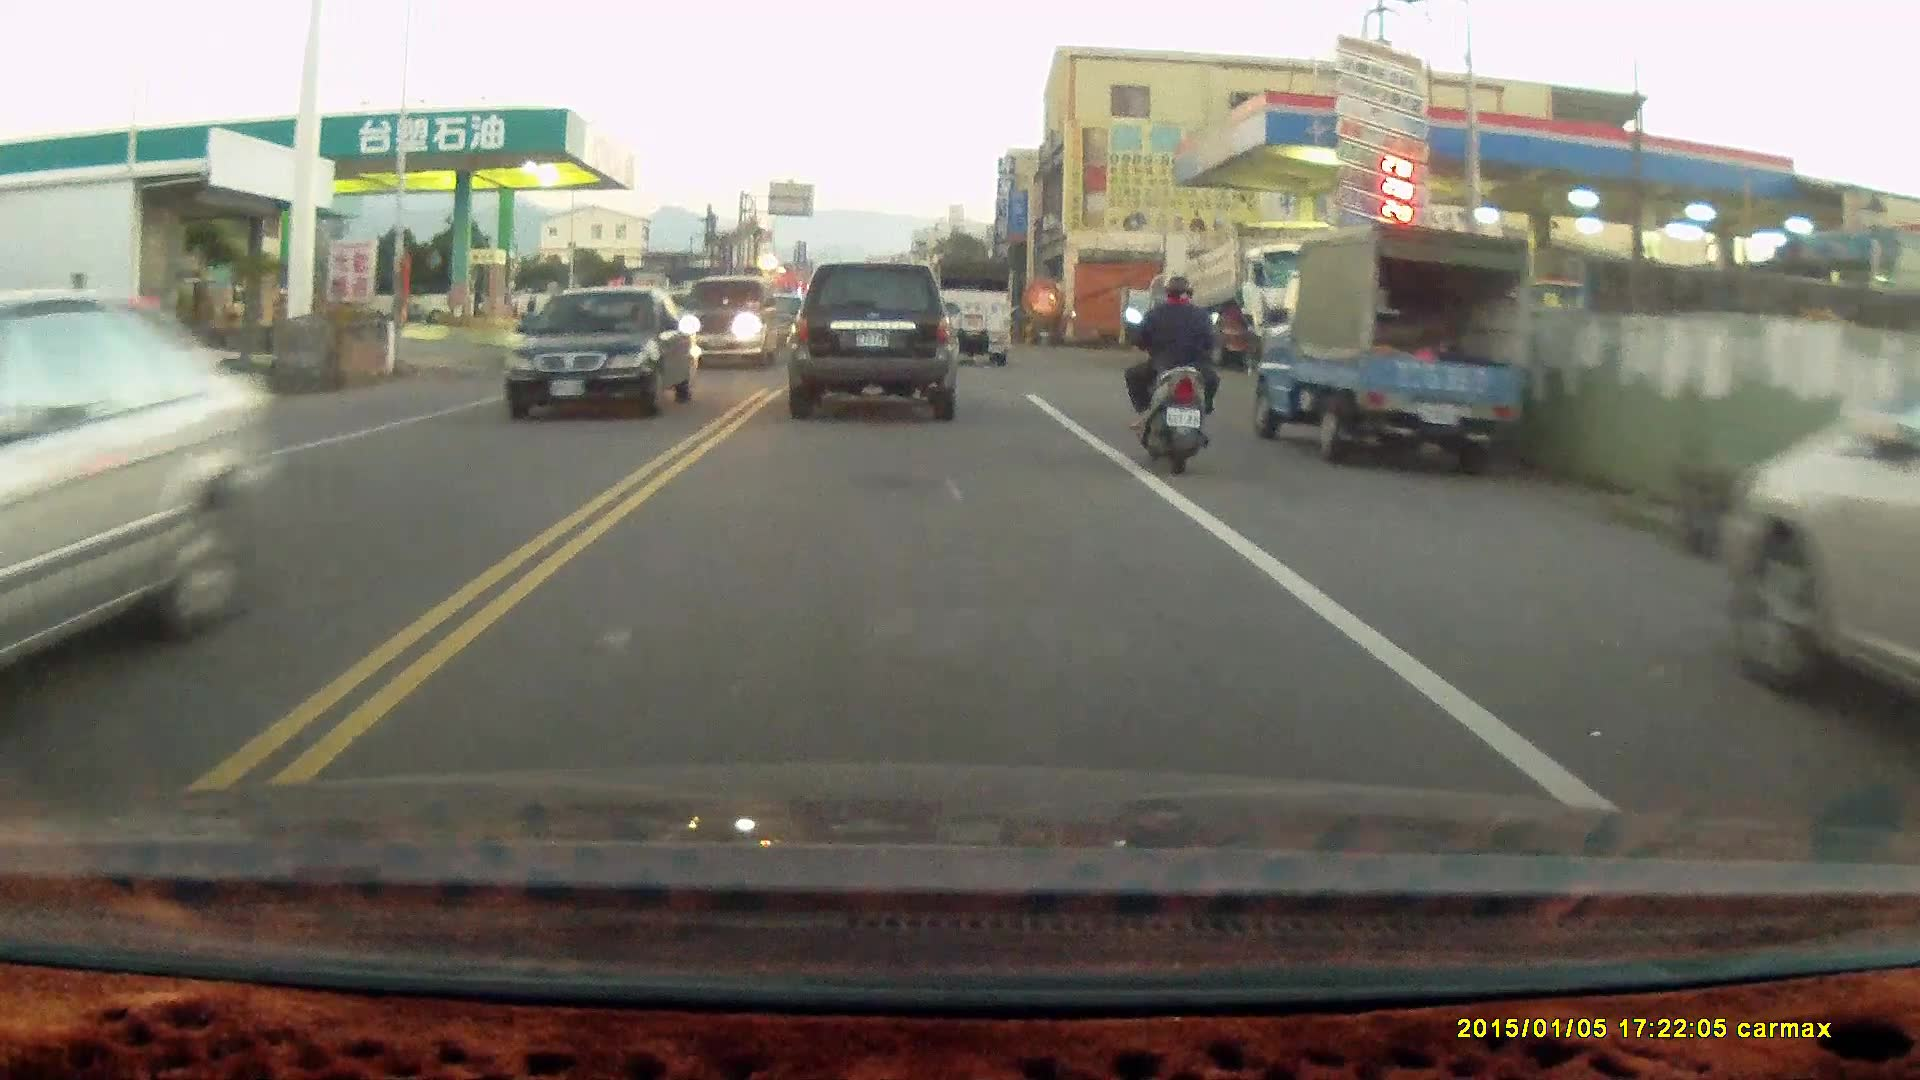rider: (1124, 276, 1224, 476)
vehicle: (1, 288, 281, 703), (1715, 355, 1920, 733), (1254, 222, 1543, 463), (788, 259, 958, 415), (507, 288, 706, 420), (675, 274, 785, 376), (920, 252, 1016, 363)
